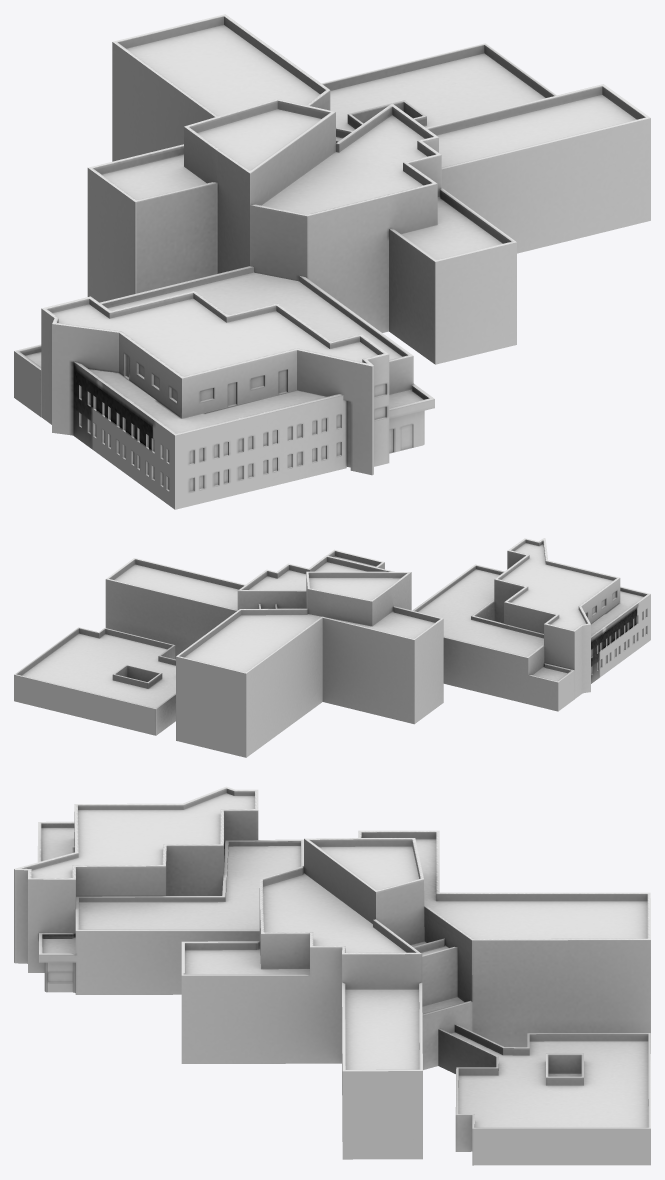
The model's file is kavala_building17.glb.
3 renders of one model, top to bottom at view 1: azimuth 30°, elevation 25°; view 2: azimuth 150°, elevation 25°; view 3: azimuth 270°, elevation 25°, orthographic. The views are drawn at different scales.
Visible parts, largest first — view 1: building_v008; view 2: building_v008; view 3: building_v008.
Boxes of the visible parts, x1=… form: building_v008: x1=14, y1=14, x2=650, y2=509; building_v008: x1=14, y1=538, x2=650, y2=757; building_v008: x1=14, y1=786, x2=650, y2=1165.
Size of the model in its own units: 8.33 by 1.95 by 7.85.
1 material, 1 textured.
